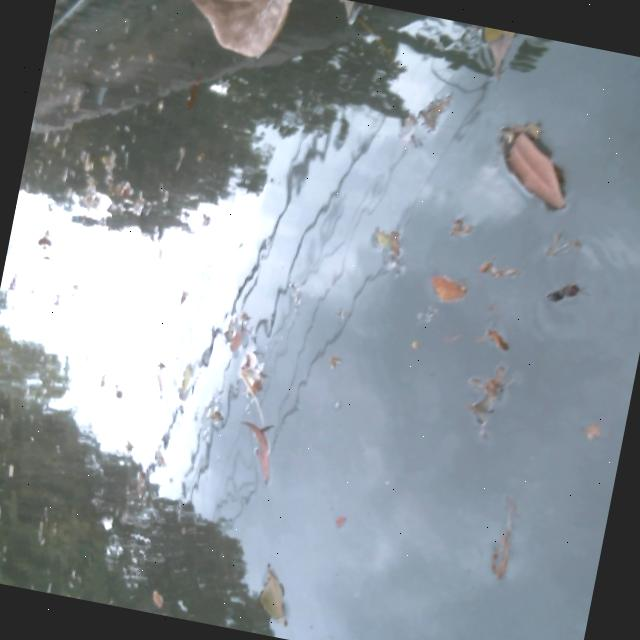Big-leaf: (155, 0, 298, 72)
Small-leaf: (476, 110, 597, 224), (208, 302, 287, 385), (227, 555, 302, 640), (479, 488, 539, 586), (228, 413, 295, 489), (369, 209, 428, 266), (475, 25, 524, 57), (434, 270, 477, 302)
